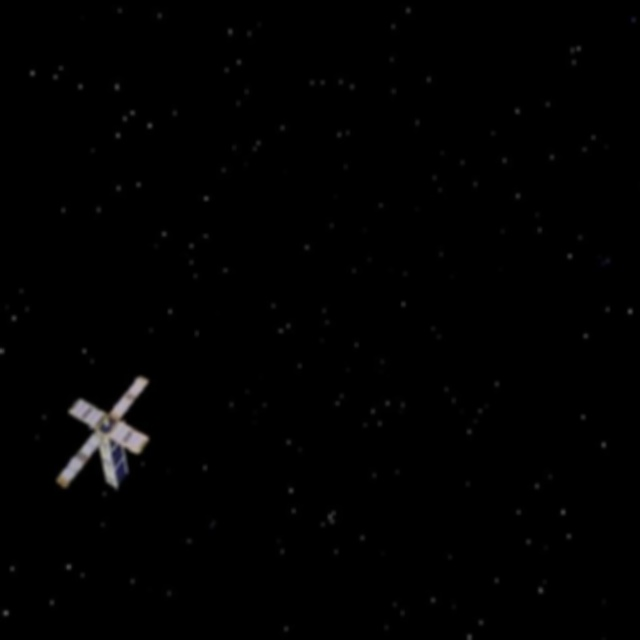satellite: (51, 387, 157, 508)
